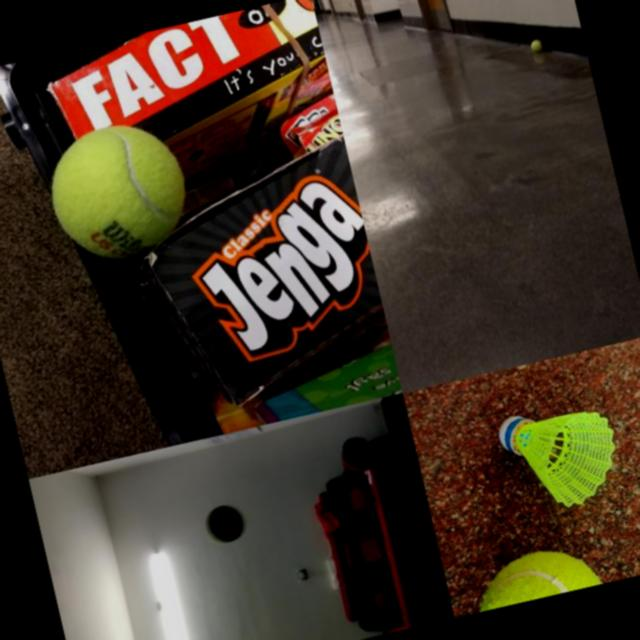tennis-ball: (37, 110, 202, 274), (465, 536, 604, 612), (202, 501, 248, 546), (529, 38, 543, 52)
